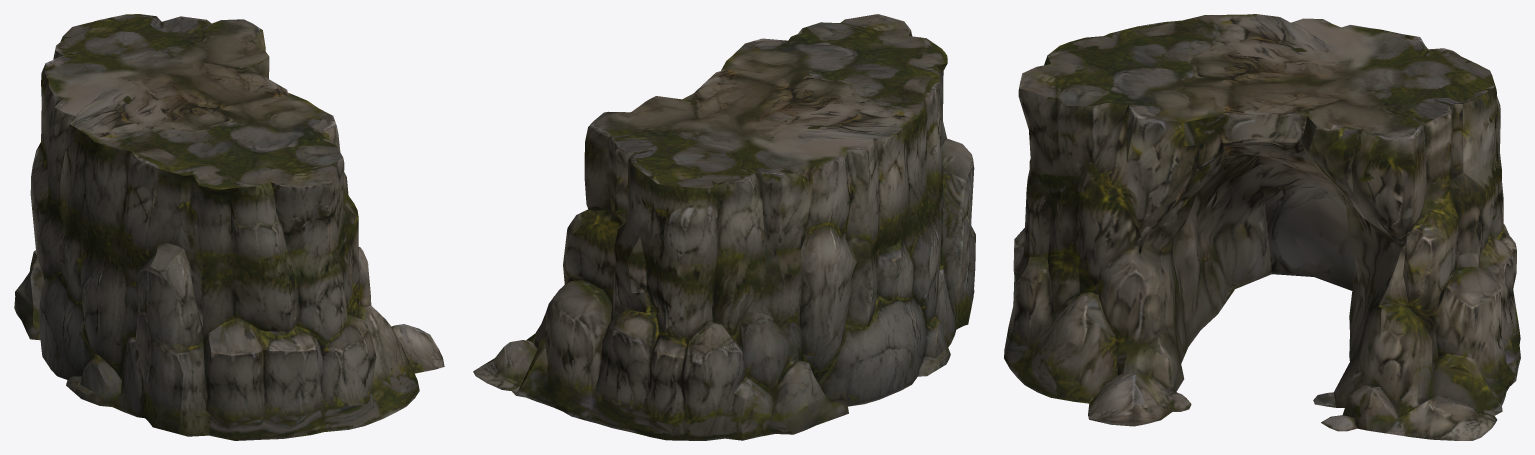
The model's file is Cave_001.fbx.
3 views of the same model, side by side, from view 1: azimuth 30°, elevation 25°; view 2: azimuth 150°, elevation 25°; view 3: azimuth 270°, elevation 25° (orthographic). The views are drawn at different scales.
Parts seen in each view (by area): view 1: Cave_001_LOD0; view 2: Cave_001_LOD0; view 3: Cave_001_LOD0.
Part boxes in pixels (x1,y1,x2,y2): Cave_001_LOD0: (14,14,444,440); Cave_001_LOD0: (473,14,975,440); Cave_001_LOD0: (1004,14,1520,440).
Size of what is drawn, in the model's own units: 2583 by 1779 by 3173.
1 material, 1 textured.
